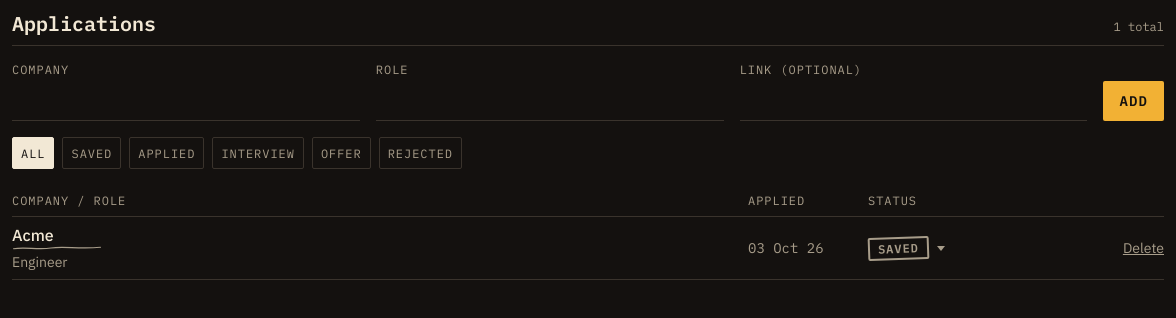
Test: ApplicationsList create and delete › delete asks for confirmation, then removes the row
Click the button with aria-label "Delete Acme, Engineer".
click(1143, 248)  # box [1123, 235, 1164, 261]
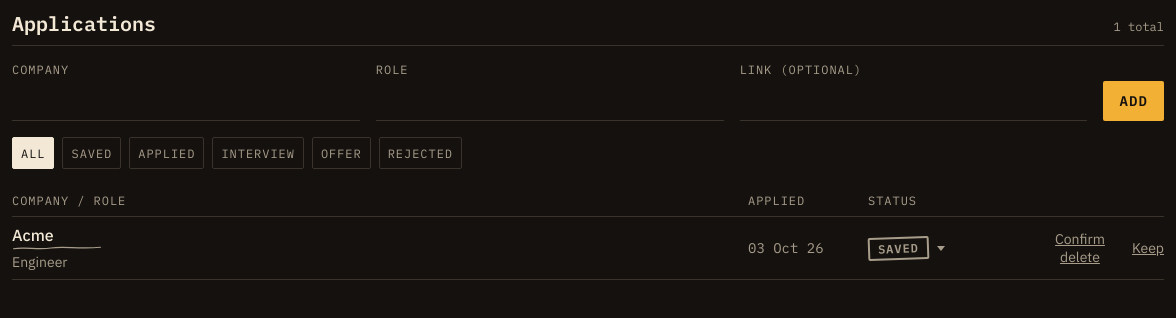
Click the button "Confirm delete".
click(1080, 248)  # box [1036, 226, 1124, 270]
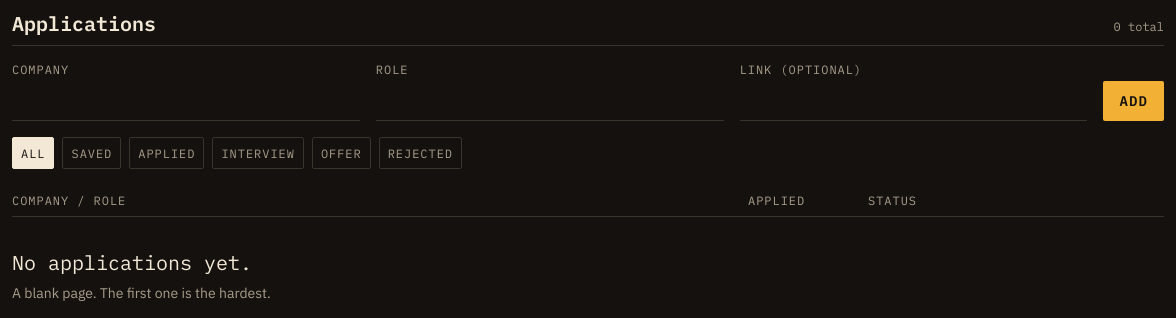
Result: the link "Acme" is gone
